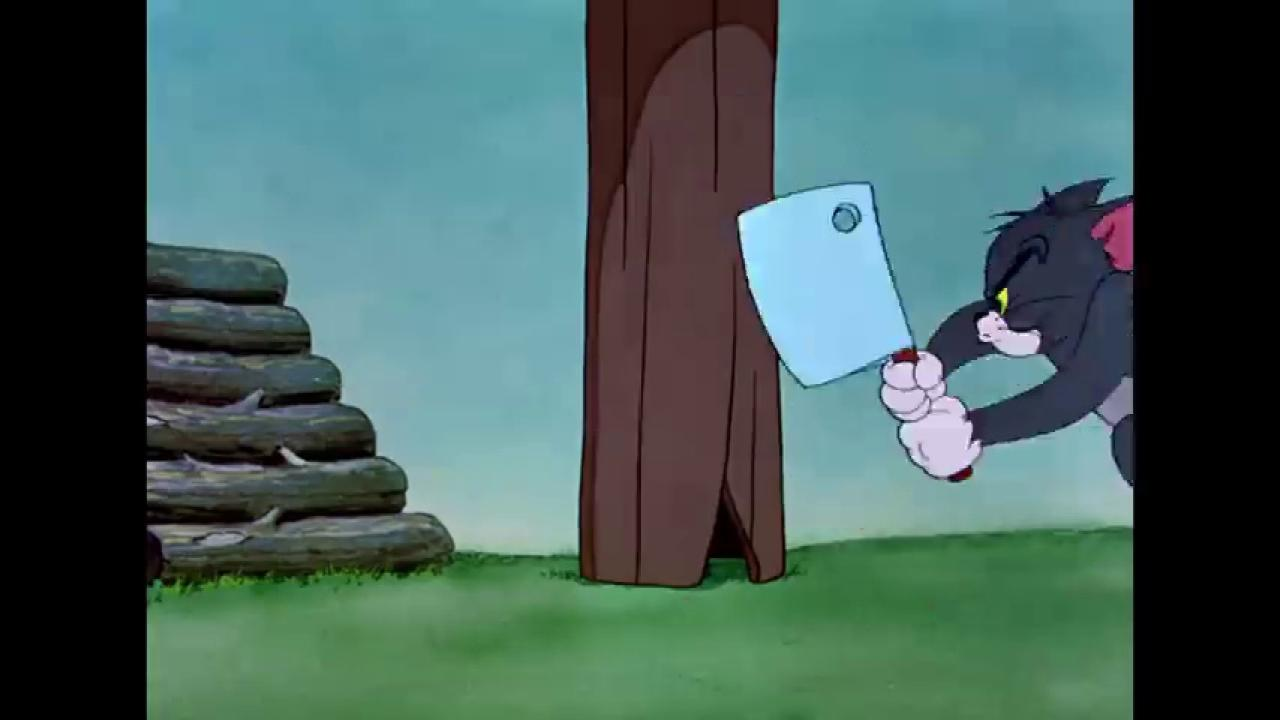Tom: (881, 172, 1132, 489)
